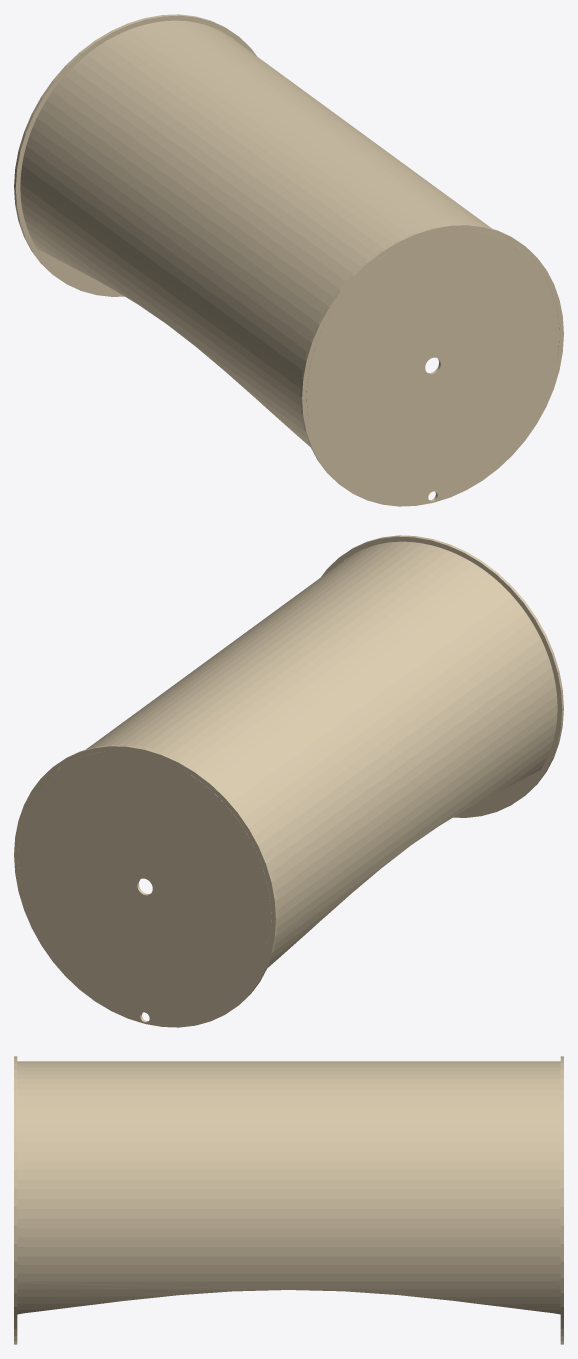
File: samla.glb
The picture shows the model from 3 angles, top to bottom: view 1: azimuth 30°, elevation 25°; view 2: azimuth 150°, elevation 25°; view 3: azimuth 270°, elevation 25°; orthographic projection. The views are drawn at different scales.
Visible parts, largest first — view 1: slicer-rullarbeid; view 2: slicer-rullarbeid; view 3: slicer-rullarbeid.
Part boxes in pixels (left/top/right/bottom): slicer-rullarbeid: left=14, top=14, right=563, bottom=506; slicer-rullarbeid: left=14, top=535, right=563, bottom=1027; slicer-rullarbeid: left=14, top=1056, right=563, bottom=1344.
Size of the model in its own units: 0.168 by 0.168 by 0.32.
